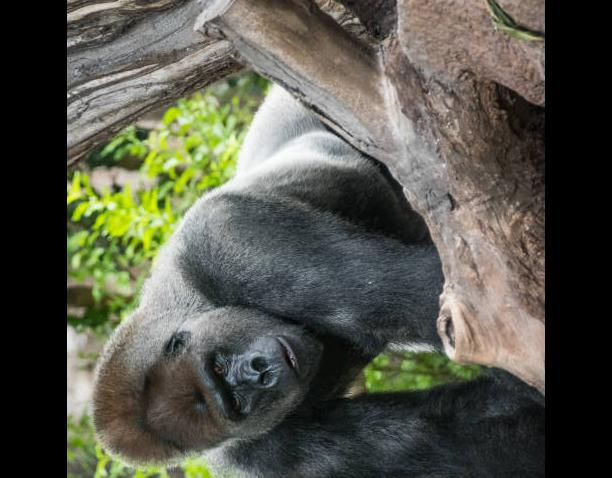gorille_Autres: (71, 116, 476, 478)
